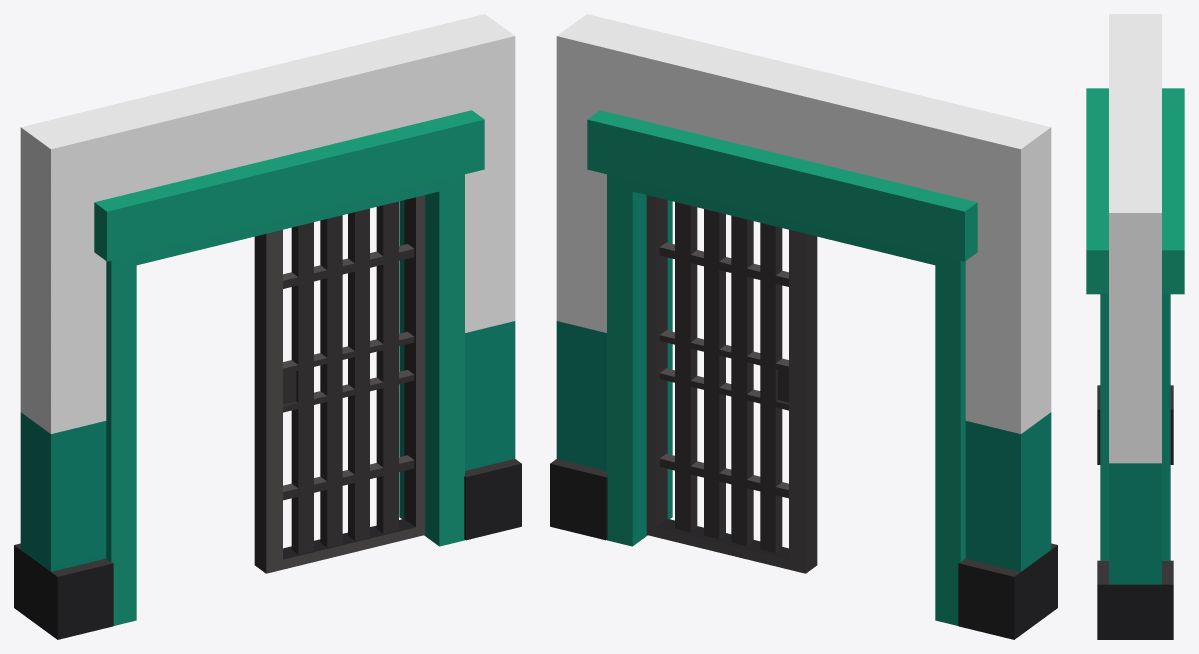
Rendered from wallroad1.fbx.
The picture shows the model from 3 angles, left to right: view 1: azimuth 30°, elevation 25°; view 2: azimuth 150°, elevation 25°; view 3: azimuth 270°, elevation 25°; orthographic projection. The views are drawn at different scales.
Visible parts, largest first — view 1: wallroad1, celldoor; view 2: wallroad1, celldoor; view 3: wallroad1.
Part boxes in pixels (left/top/right/bottom): wallroad1: left=14, top=14, right=521, bottom=639; celldoor: left=275, top=201, right=415, bottom=561; wallroad1: left=550, top=14, right=1057, bottom=639; celldoor: left=656, top=202, right=796, bottom=561; wallroad1: left=1086, top=14, right=1184, bottom=639.
Bounding box in the file's own units: 160 × 160 × 33.3.
